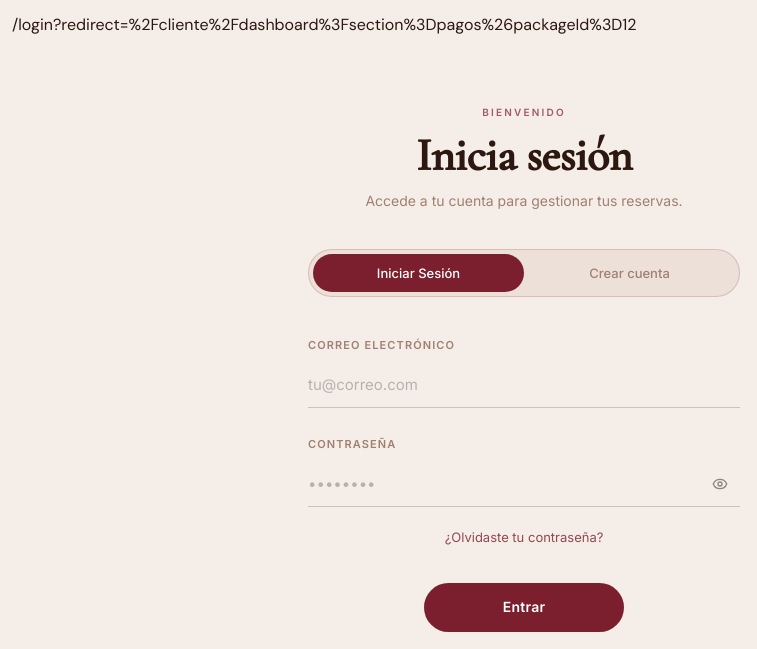
Test: Login redirect flow › respeta redirect interno seguro
In the field labelled "Correo electrónico": coordinates (524, 386) x1=308 y1=363 x2=740 y2=408, type "cliente@casascarlatta.local"
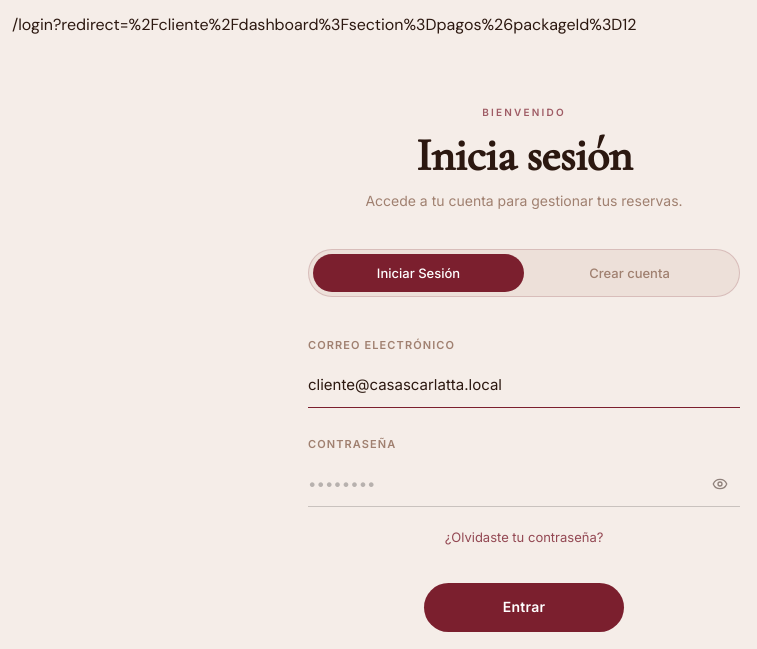
In the password field labelled "Contraseña": coordinates (524, 484) x1=308 y1=462 x2=740 y2=507, type "cliente999"
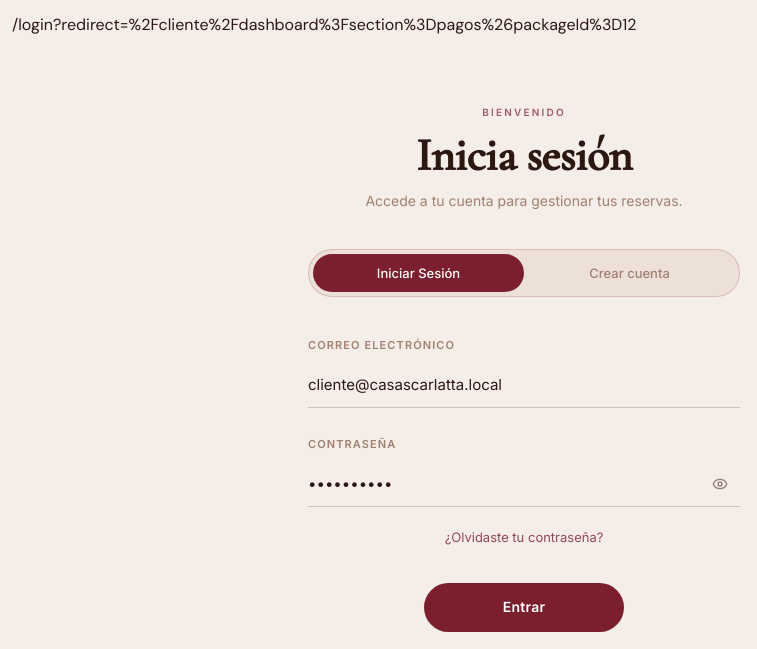
Click the button "Entrar": coordinates (524, 608) x1=424 y1=583 x2=624 y2=632
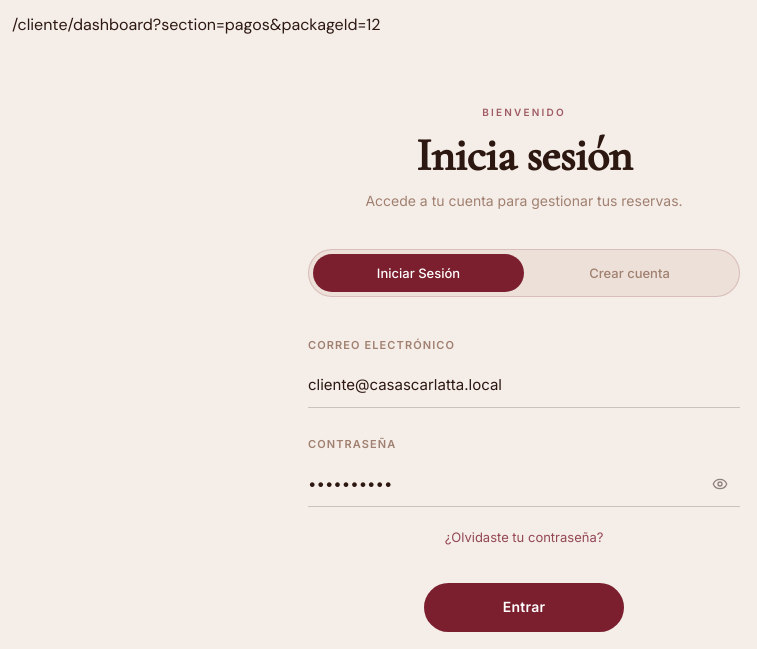
Now the text with test id "location" reads "/cliente/dashboard?section=pagos&packageId=12", box x1=12 y1=14 x2=380 y2=35
